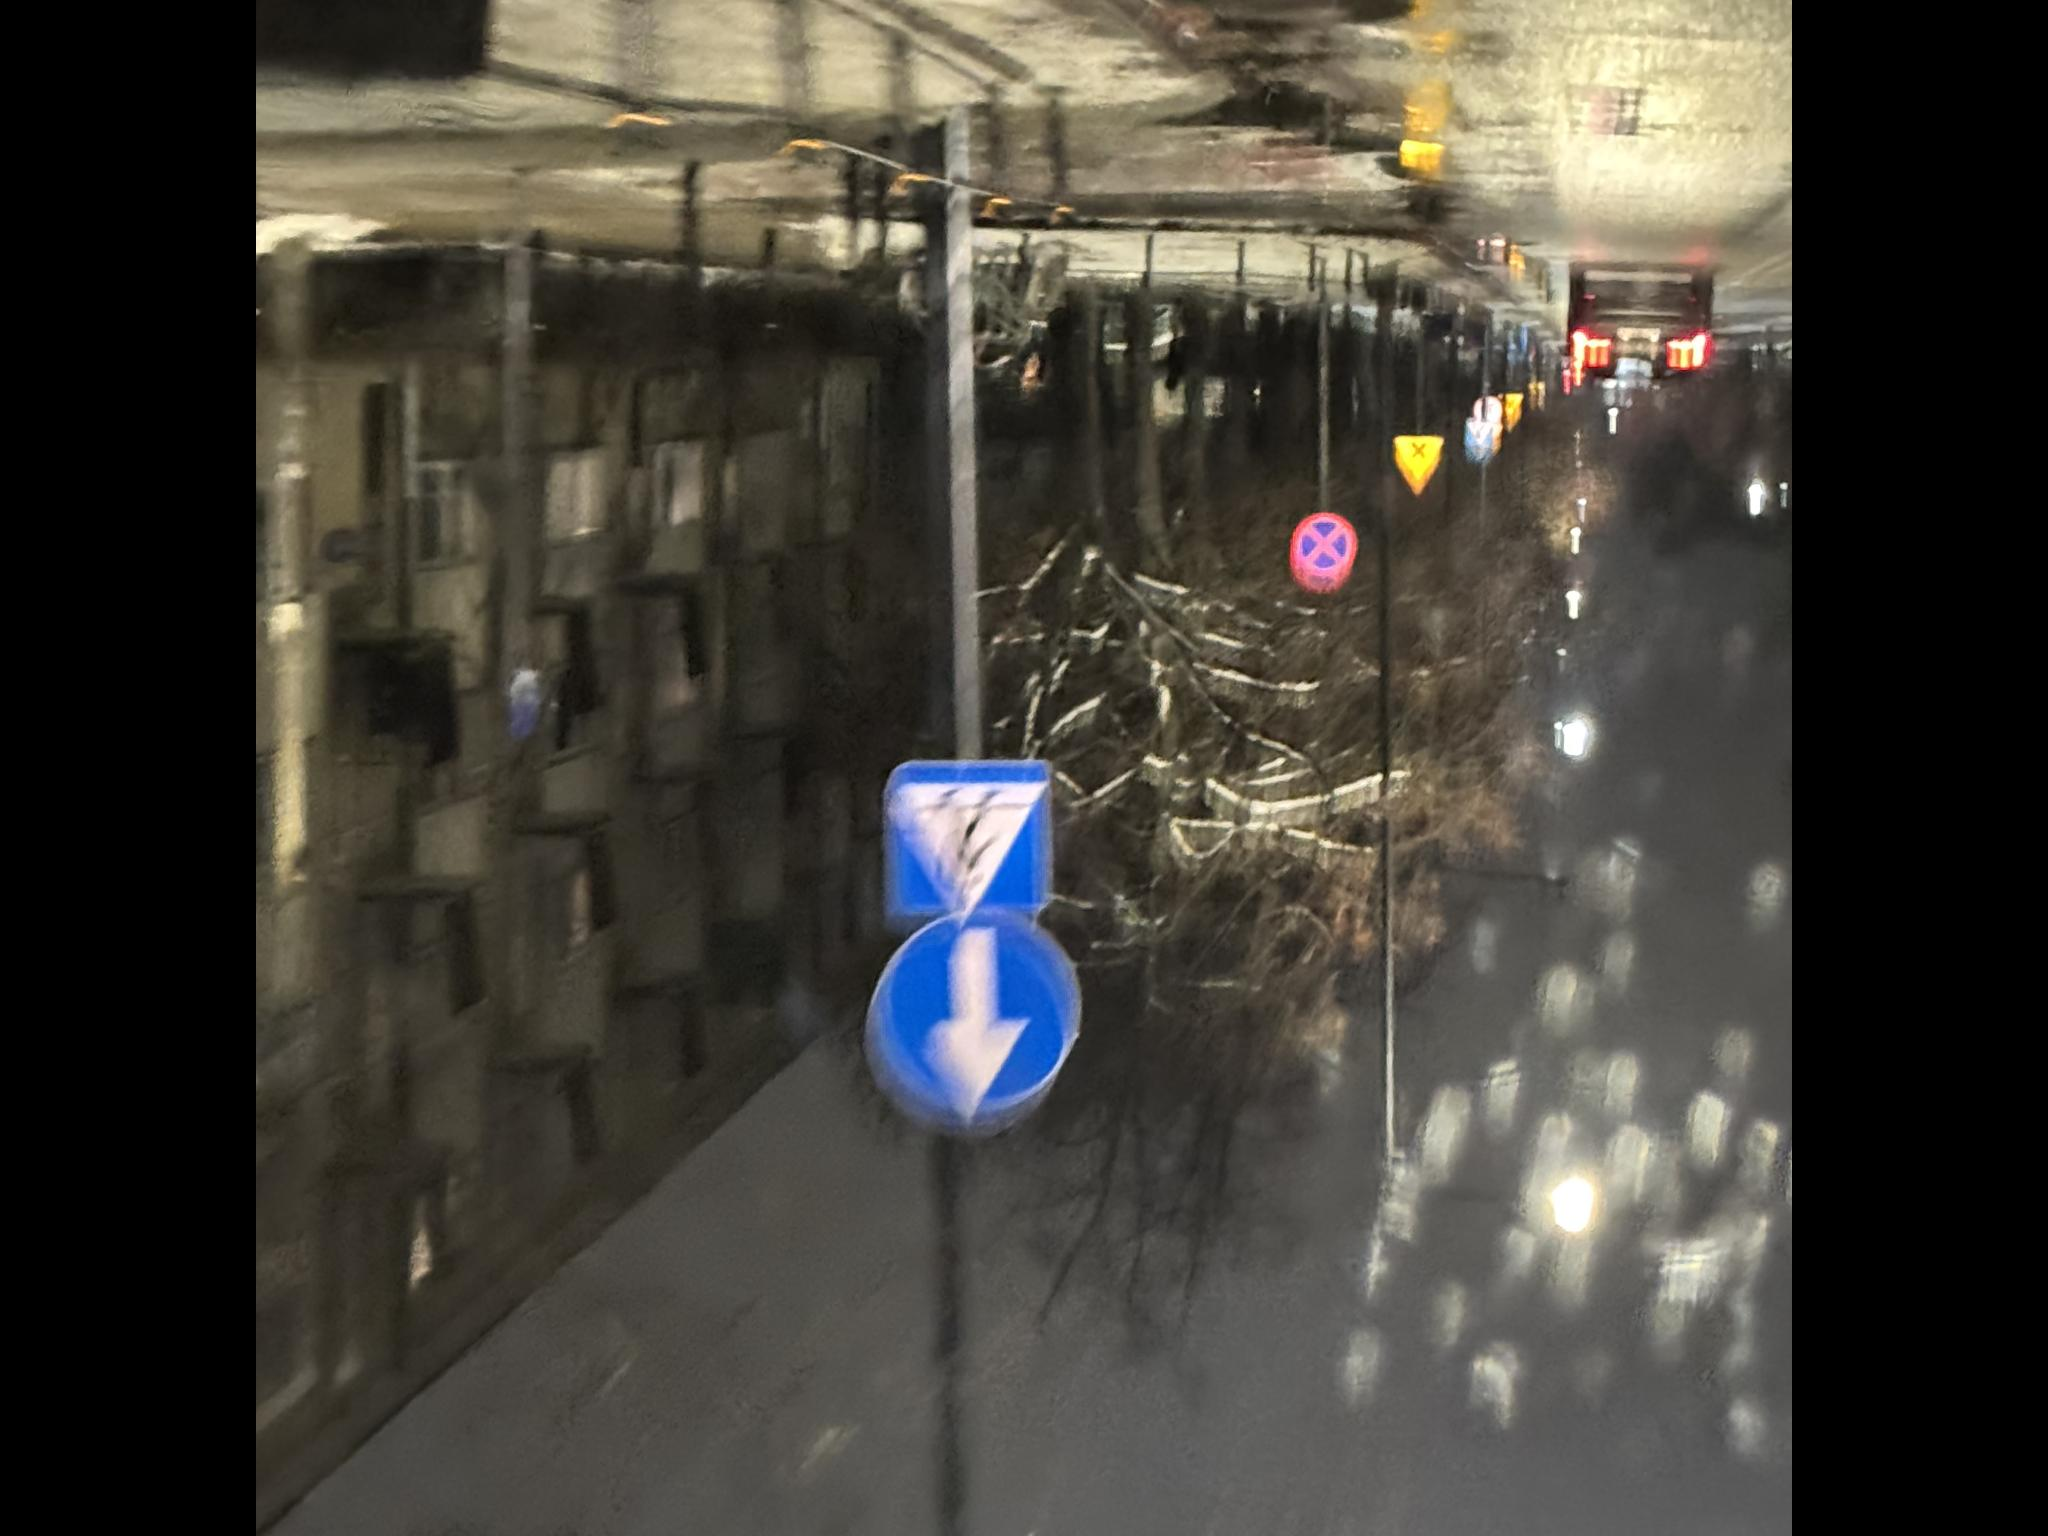information: (1134, 886, 1295, 1062)
mandatory: (934, 873, 1135, 1083)
prohibitory: (1471, 1288, 1542, 1359)
warning: (1567, 1392, 1614, 1444)
